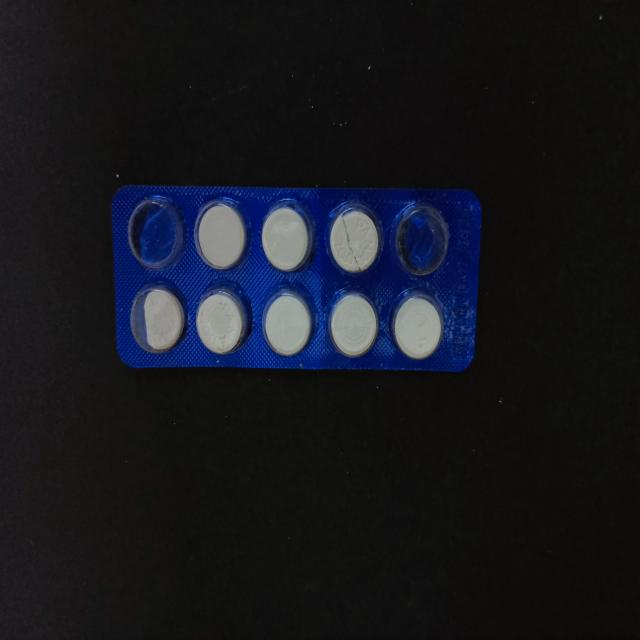defect: (390, 200, 452, 280), (125, 194, 187, 269), (127, 280, 189, 355), (325, 203, 383, 278)
